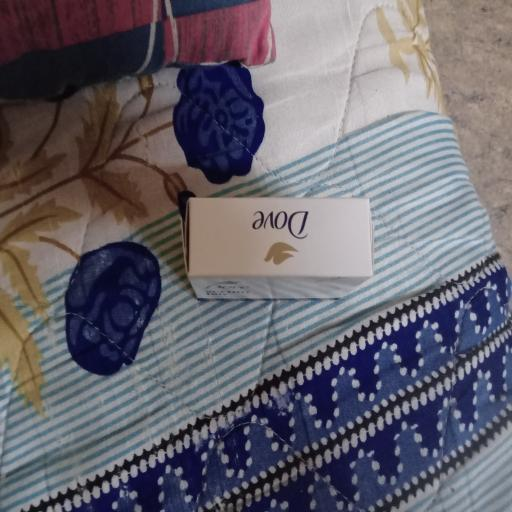Dove`1: (161, 181, 390, 307)
